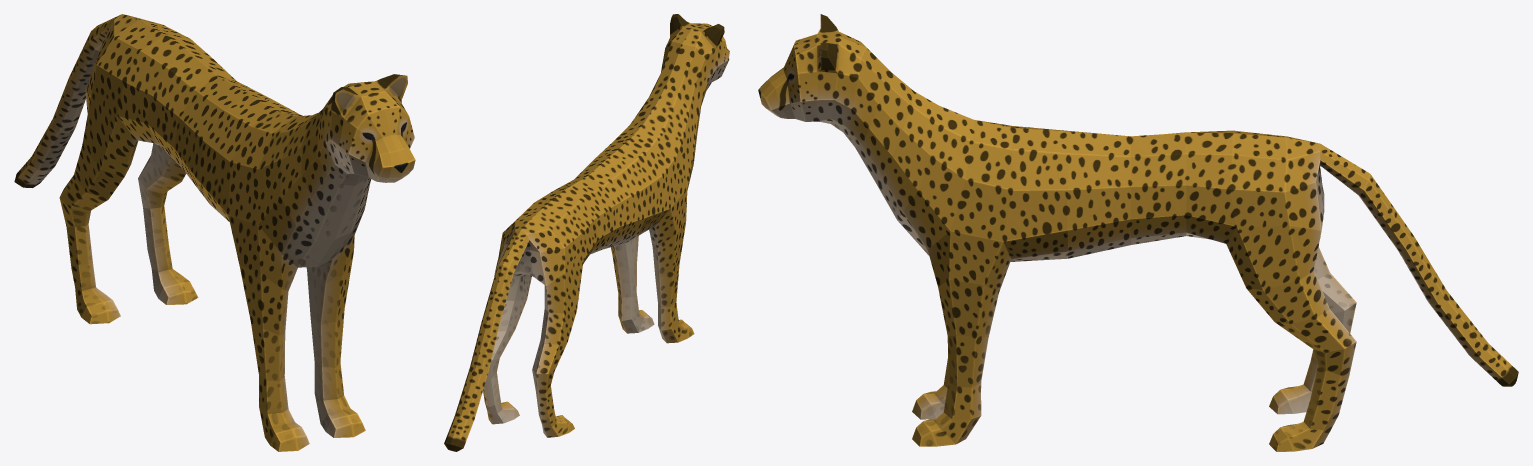
File: Cheetah.gltf
3 renders of one model, left to right at view 1: azimuth 30°, elevation 25°; view 2: azimuth 150°, elevation 25°; view 3: azimuth 270°, elevation 25°, orthographic. The views are drawn at different scales.
Parts seen in each view (by area): view 1: Cheetah_mesh; view 2: Cheetah_mesh; view 3: Cheetah_mesh.
Boxes of the visible parts, left/top/right/bottom form: Cheetah_mesh: left=14, top=14, right=415, bottom=451; Cheetah_mesh: left=444, top=14, right=729, bottom=451; Cheetah_mesh: left=758, top=14, right=1518, bottom=451.
Bounding box in the file's own units: 2.03 × 7.05 × 12.26.
1 material, 1 textured.
